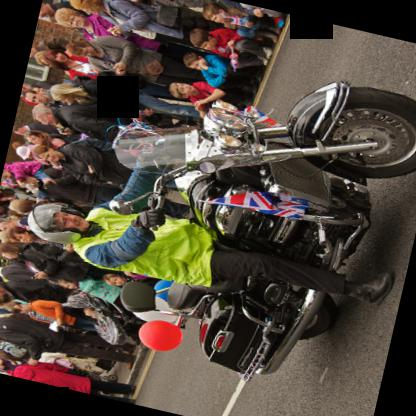handbag: (135, 0, 181, 28), (126, 46, 164, 75), (120, 72, 148, 91), (69, 60, 89, 68)
